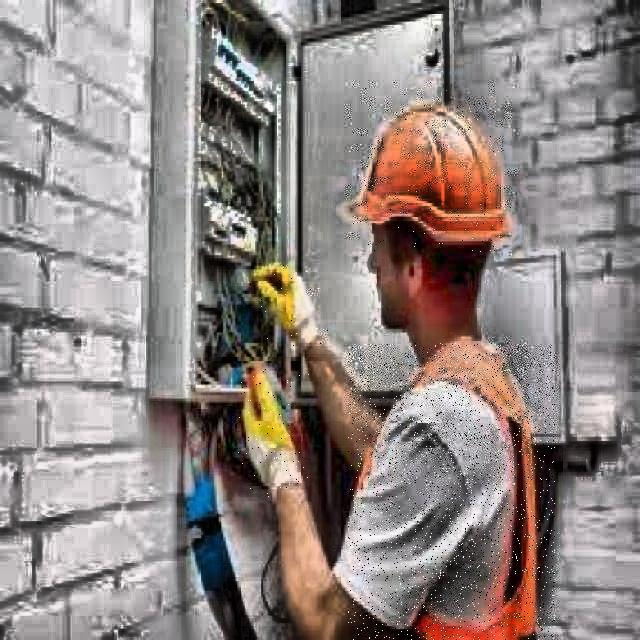safety_helmet: (346, 82, 515, 256)
safety_jacket: (348, 343, 555, 640)
